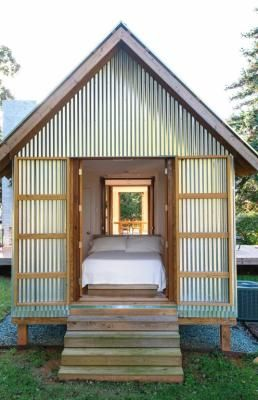Tin-shade House: (1, 23, 258, 353)
